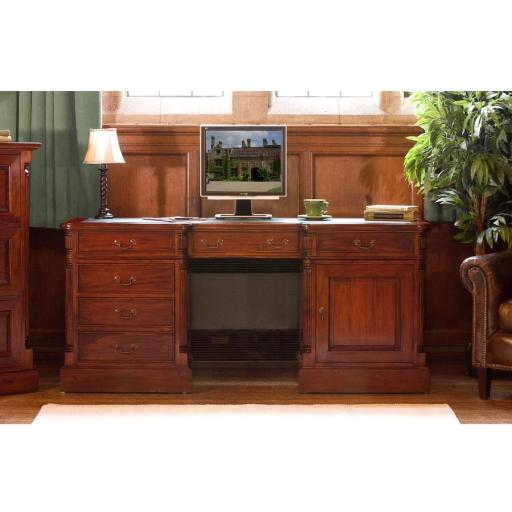chair: (459, 250, 512, 399)
desk: (60, 216, 431, 394)
wall: (27, 91, 505, 363)
